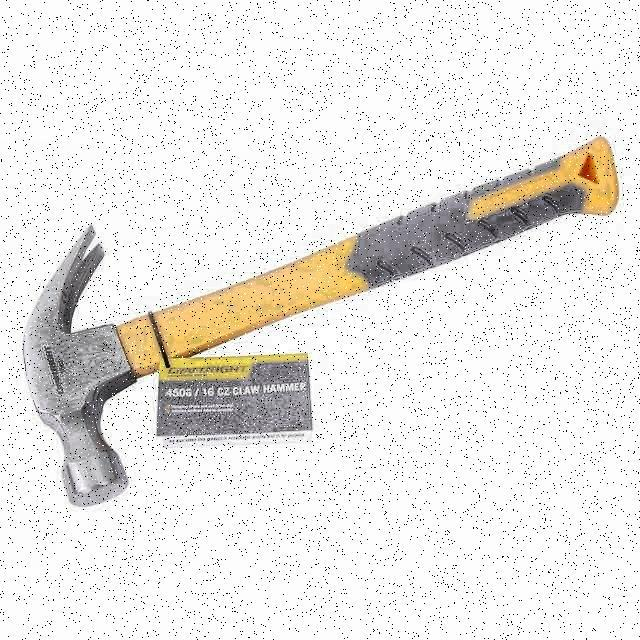hammer: (23, 135, 625, 507)
